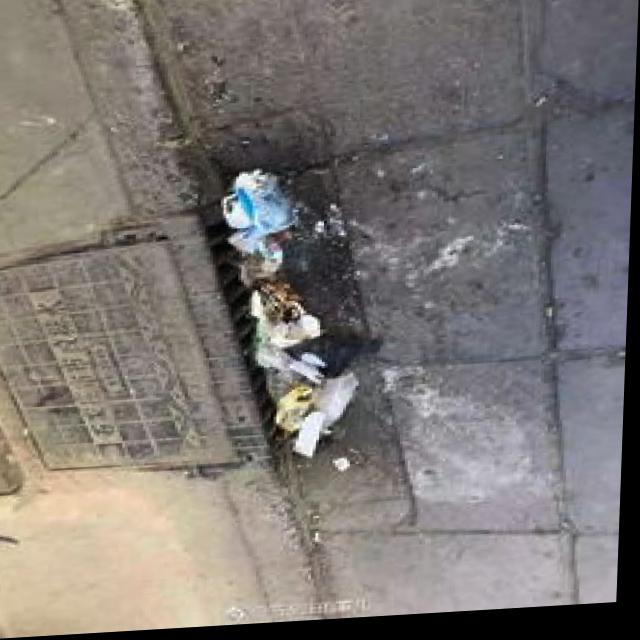garbage: (212, 163, 371, 482)
